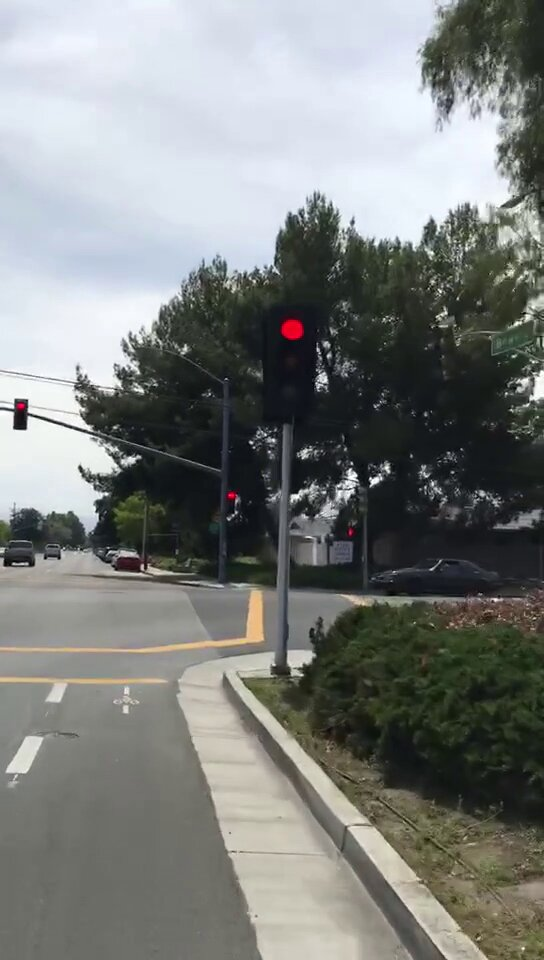red_light: (269, 313, 313, 417), (14, 398, 27, 429), (226, 491, 238, 516)
